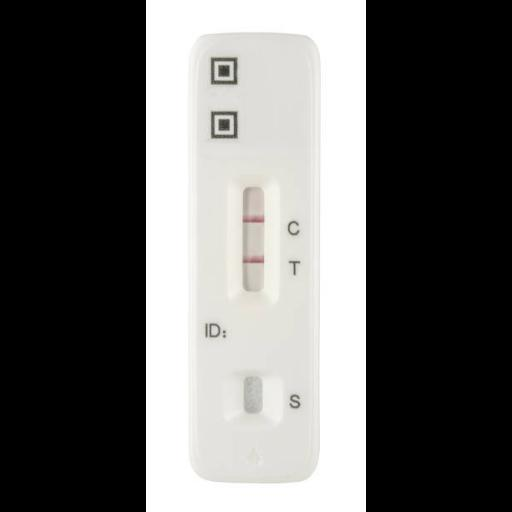Pos: (190, 32, 314, 484)
